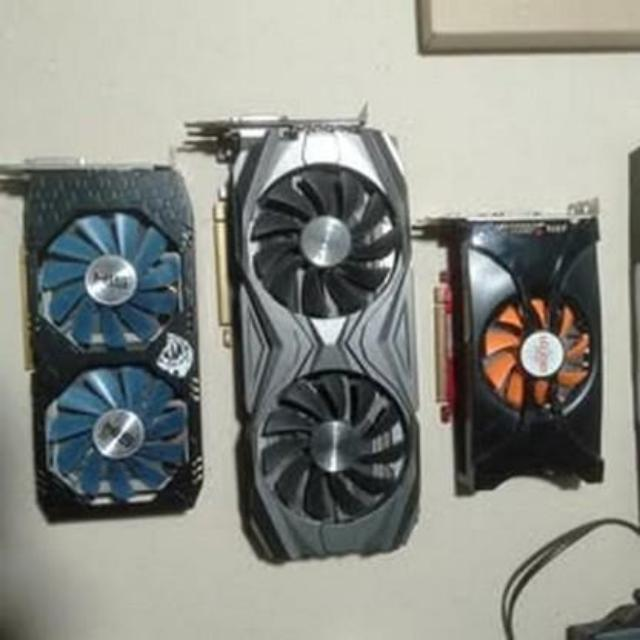GPU: (210, 116, 427, 572), (10, 152, 210, 538), (438, 210, 610, 508)
